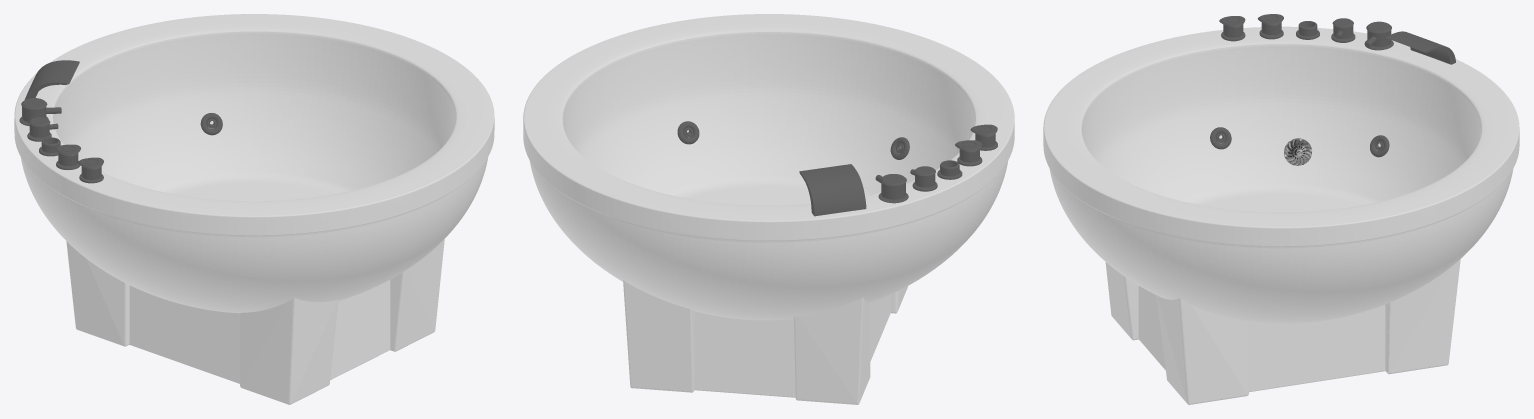
Rendered from AS501B-HIDRO.glb.
3 views of the same model, side by side, from view 1: azimuth 30°, elevation 25°; view 2: azimuth 150°, elevation 25°; view 3: azimuth 270°, elevation 25° (orthographic). The views are drawn at different scales.
Visible parts, largest first — view 1: ChamferBox008, Torus006; view 2: ChamferBox008, Torus006; view 3: ChamferBox008, Torus006, ChamferCyl037.
Part boxes in pixels (left/top/right/bottom): ChamferBox008: left=14, top=14, right=494, bottom=404; Torus006: left=19, top=60, right=222, bottom=183; ChamferBox008: left=523, top=14, right=1014, bottom=404; Torus006: left=677, top=121, right=997, bottom=216; ChamferBox008: left=1043, top=26, right=1519, bottom=404; Torus006: left=1210, top=14, right=1455, bottom=157; ChamferCyl037: left=1284, top=138, right=1312, bottom=165.
Bounding box in the file's own units: 1.5 × 0.8331 × 1.5.
Materials: 3 (1 with a texture image).
